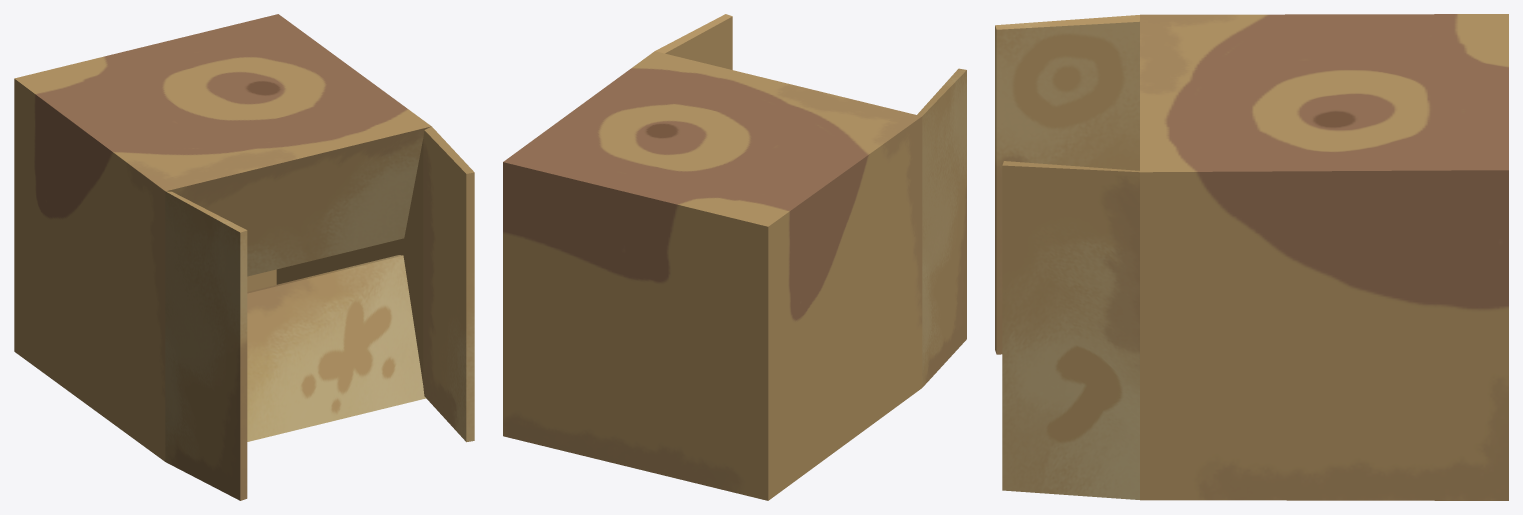
The model's file is Box_3_paint.fbx.
3 renders of one model, left to right at view 1: azimuth 30°, elevation 25°; view 2: azimuth 150°, elevation 25°; view 3: azimuth 270°, elevation 25°, orthographic. The views are drawn at different scales.
Visible parts, largest first — view 1: Box_3; view 2: Box_3; view 3: Box_3.
Part boxes in pixels (bbox=[...]): Box_3: bbox=[14, 14, 474, 500]; Box_3: bbox=[503, 14, 966, 500]; Box_3: bbox=[995, 14, 1508, 500].
Bounding box in the file's own units: 102 × 100 × 141.
